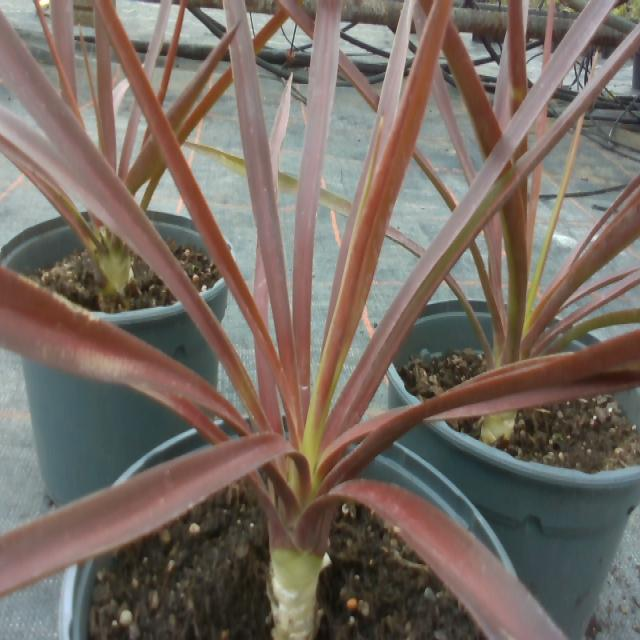Yucca-aloifolia: (323, 0, 612, 441), (0, 13, 252, 407), (95, 0, 292, 411), (304, 0, 451, 445), (321, 336, 639, 480), (0, 436, 287, 595), (330, 480, 564, 639), (2, 268, 239, 421), (224, 0, 300, 417), (330, 0, 414, 312), (293, 0, 341, 415), (525, 200, 639, 349), (0, 108, 97, 207), (553, 173, 639, 284), (533, 116, 583, 291), (539, 271, 639, 347), (445, 23, 501, 157), (167, 36, 229, 135), (500, 179, 527, 363), (444, 276, 492, 364), (550, 308, 639, 352), (469, 240, 505, 328), (413, 143, 457, 211), (96, 12, 114, 168), (567, 267, 639, 304), (269, 76, 291, 186), (339, 49, 378, 111), (51, 0, 76, 96), (143, 0, 171, 80), (129, 128, 160, 187), (118, 103, 140, 179), (196, 144, 244, 176), (277, 0, 313, 35), (386, 225, 425, 256), (254, 240, 268, 324), (258, 353, 276, 399), (320, 188, 350, 215), (278, 172, 298, 193), (267, 396, 279, 423)
